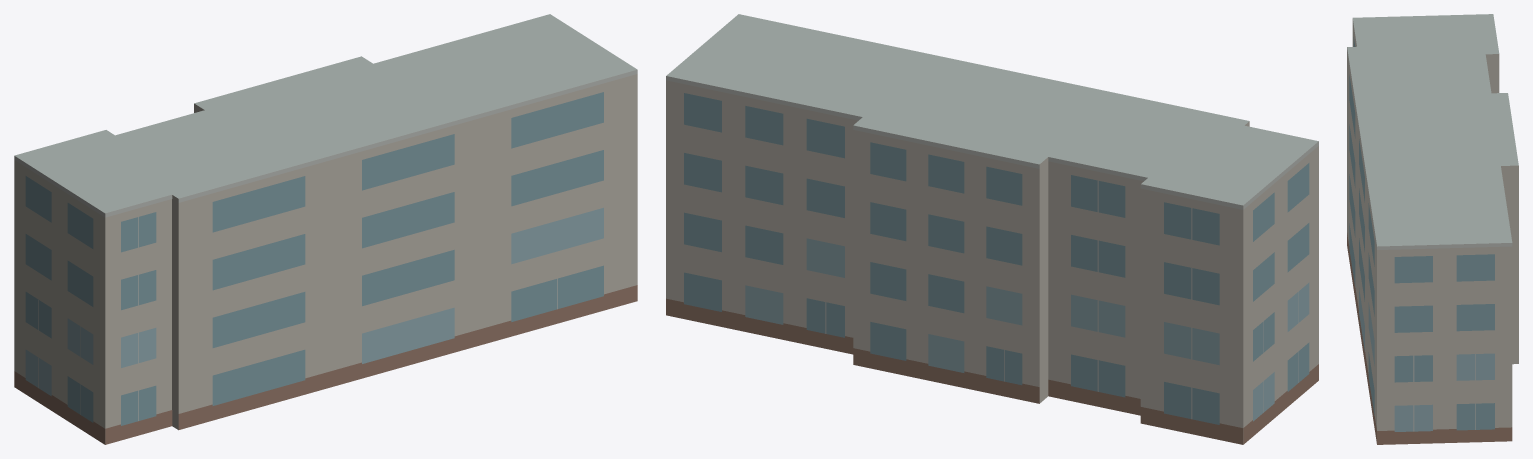
File: survey-upis-32820100.glb
3 views of the same model, side by side, from view 1: azimuth 30°, elevation 25°; view 2: azimuth 150°, elevation 25°; view 3: azimuth 270°, elevation 25° (orthographic). The views are drawn at different scales.
Visible parts, largest first — view 1: survey-upis-32820100.tmp; view 2: survey-upis-32820100.tmp; view 3: survey-upis-32820100.tmp.
Part boxes in pixels (bbox=[...]): survey-upis-32820100.tmp: bbox=[14, 14, 637, 444]; survey-upis-32820100.tmp: bbox=[666, 14, 1318, 444]; survey-upis-32820100.tmp: bbox=[1347, 14, 1518, 444].
Bounding box in the file's own units: 33.42 × 13.3 × 10.44.
